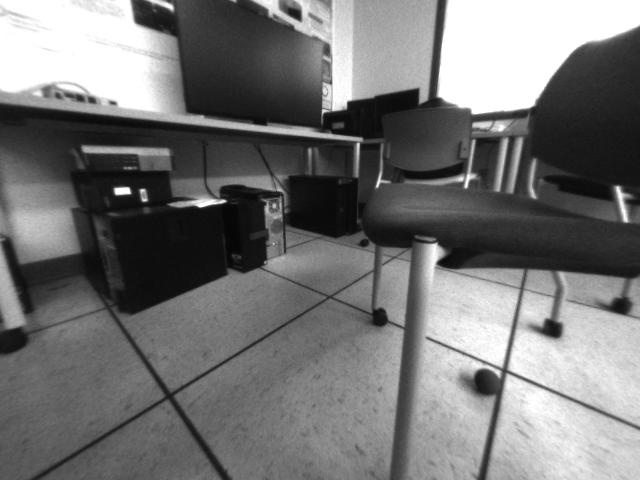dogtoy: (469, 360, 507, 401)
